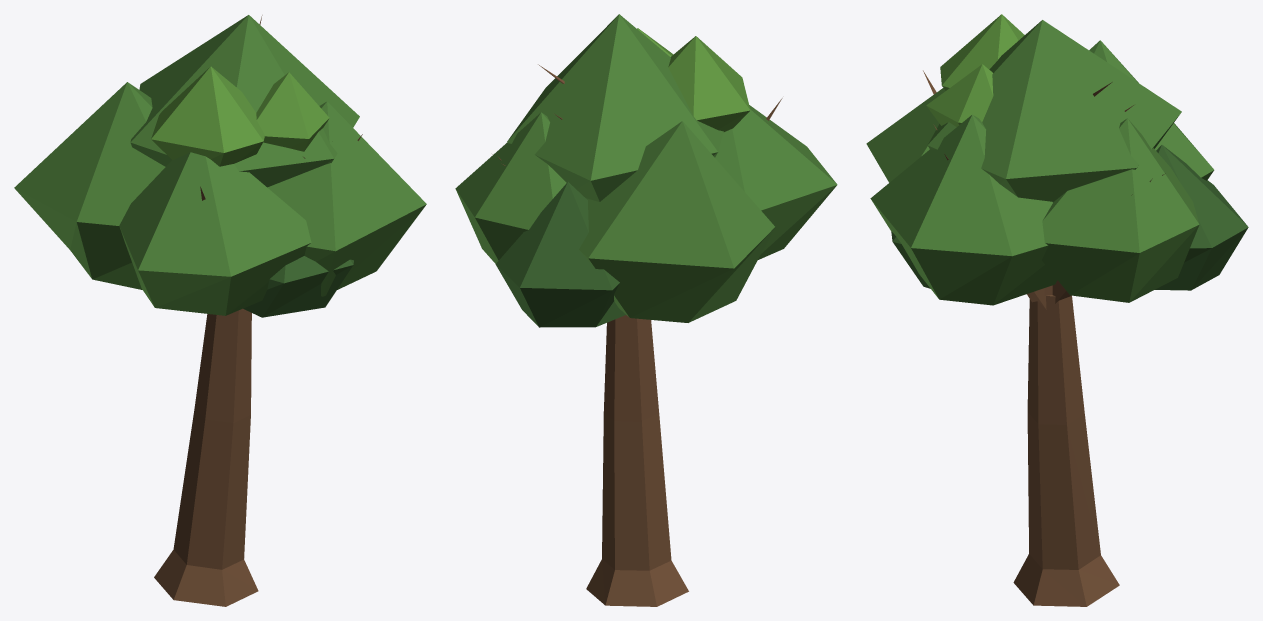
File: tree_teak_2.obj
3 renders of one model, left to right at view 1: azimuth 30°, elevation 25°; view 2: azimuth 150°, elevation 25°; view 3: azimuth 270°, elevation 25°, orthographic. The views are drawn at different scales.
Parts seen in each view (by area): view 1: tree_teak_2; view 2: tree_teak_2; view 3: tree_teak_2.
Boxes of the visible parts, bbox=[...] form: tree_teak_2: bbox=[14, 15, 426, 606]; tree_teak_2: bbox=[455, 14, 837, 606]; tree_teak_2: bbox=[866, 14, 1248, 606].
Size of the model in its own units: 0.6197 by 1.15 by 0.6816.
